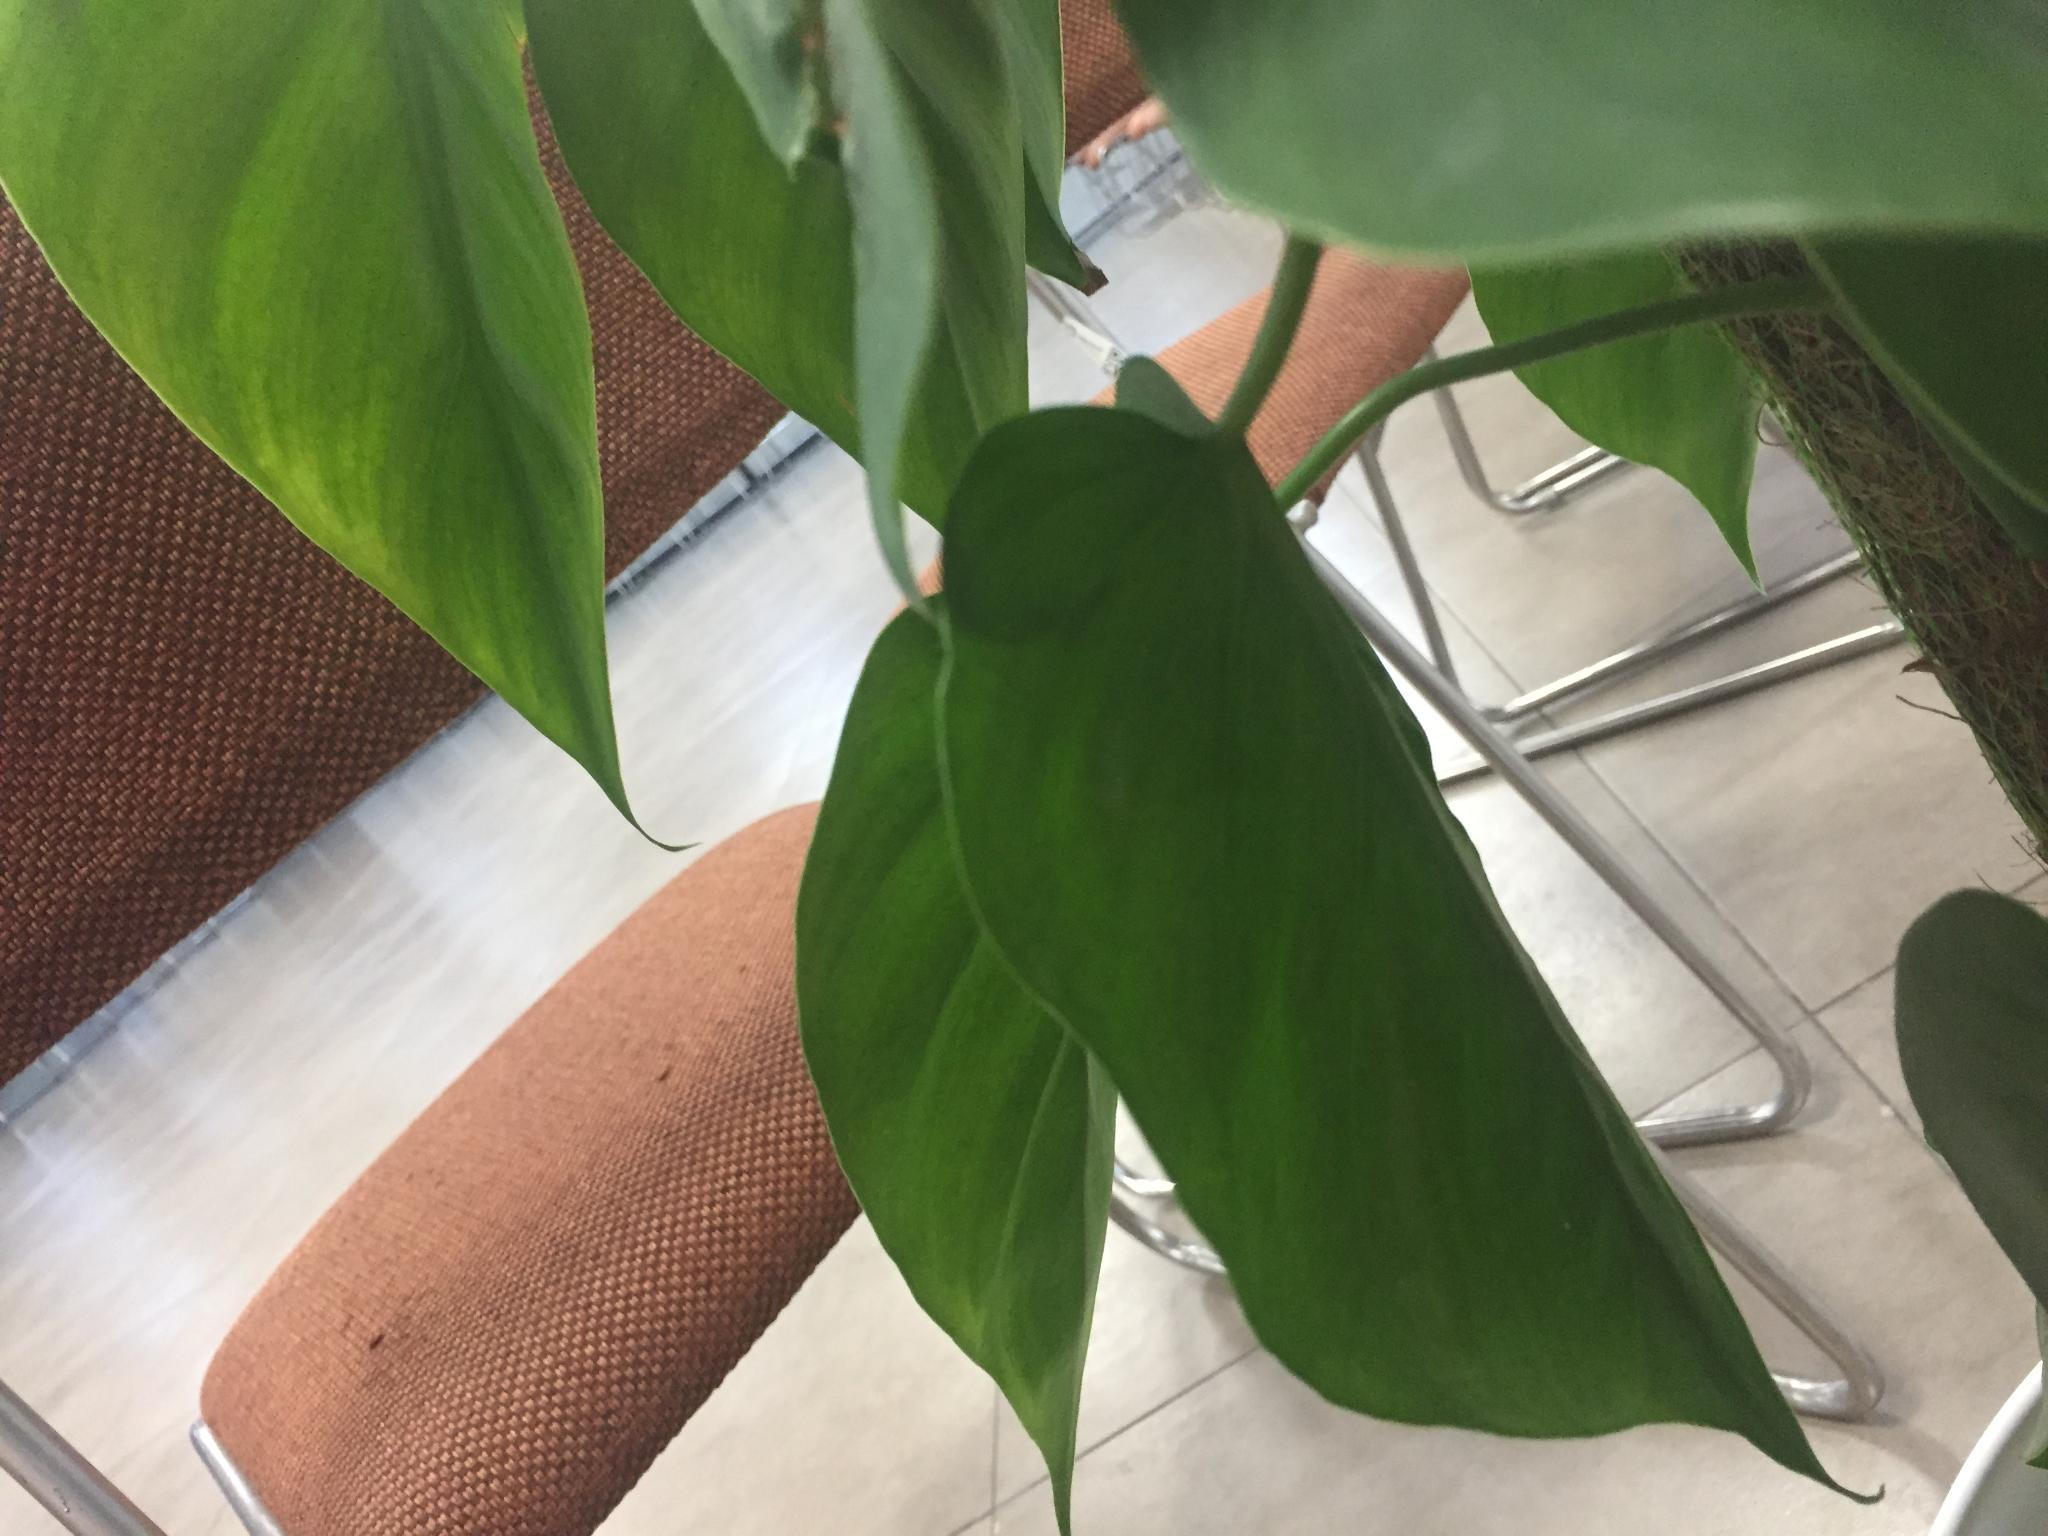chair: (0, 0, 1884, 1536), (900, 0, 2046, 1139)
